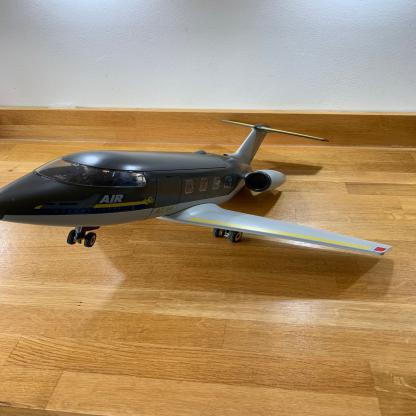CIV_Plane: (3, 118, 394, 262)
